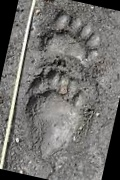rat: (52, 85, 71, 119)
